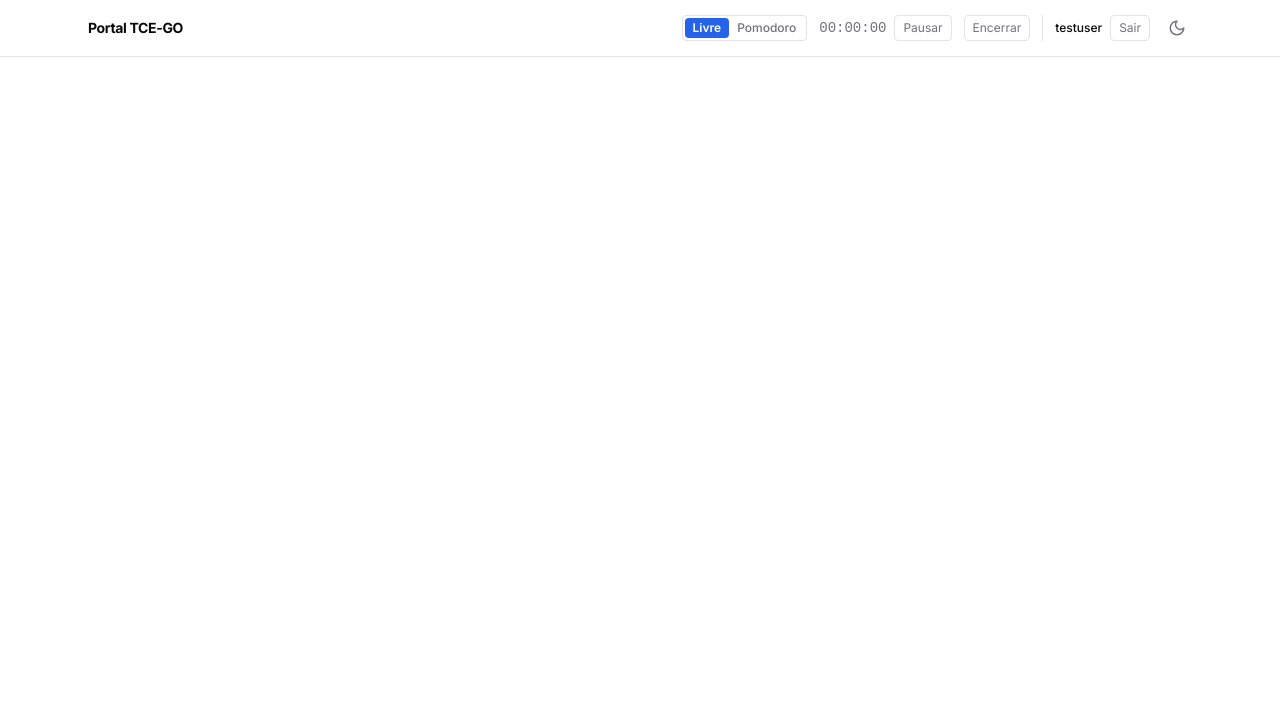
Test: Header Component › toggles theme on click @spec:AC-017
The image size is (1280, 720).
Click the button titled "Tema escuro": (1177, 28) [1162,13,1192,43]
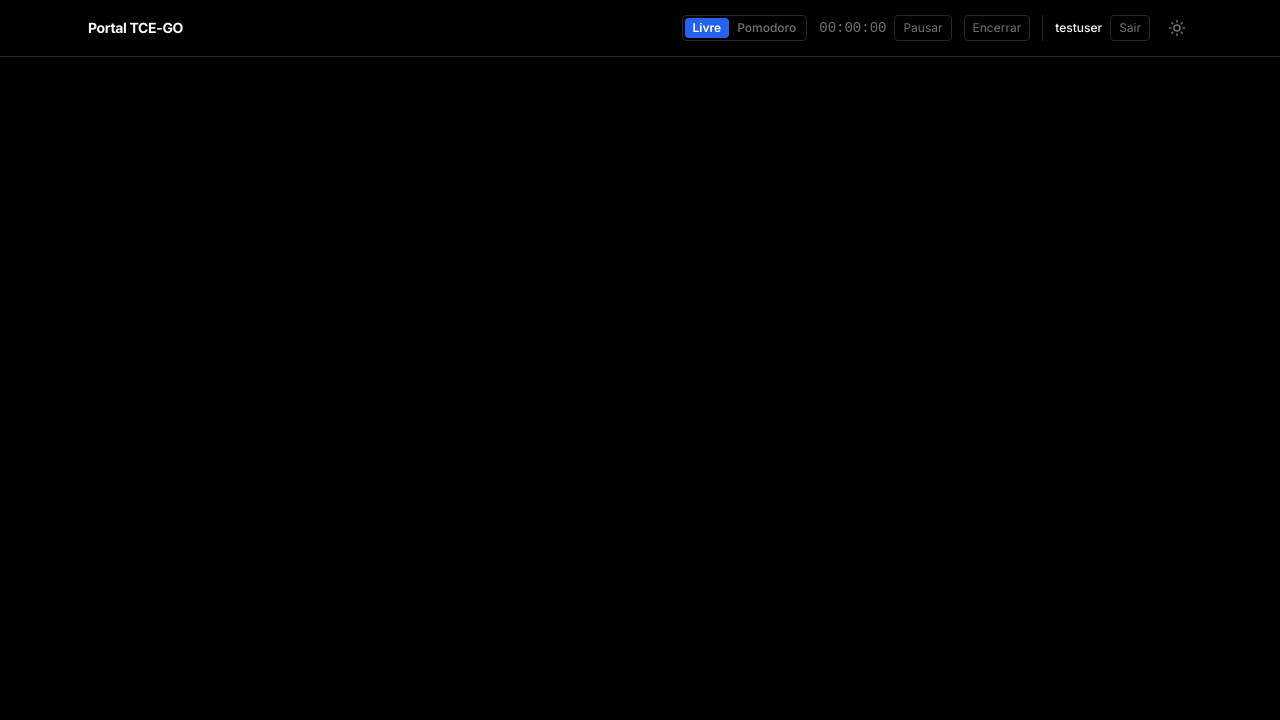
Check: the button titled "Tema claro" is shown, box [1162,13,1192,43]
